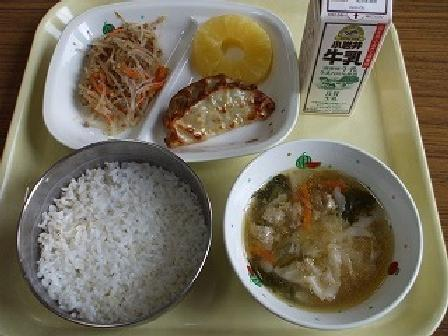Milk: (285, 0, 403, 116)
Rice: (25, 146, 216, 325)
Soups: (228, 141, 420, 315)
pastry: (156, 73, 275, 148)
pineapple: (193, 7, 278, 84)
salad with sauce: (70, 17, 167, 122)
